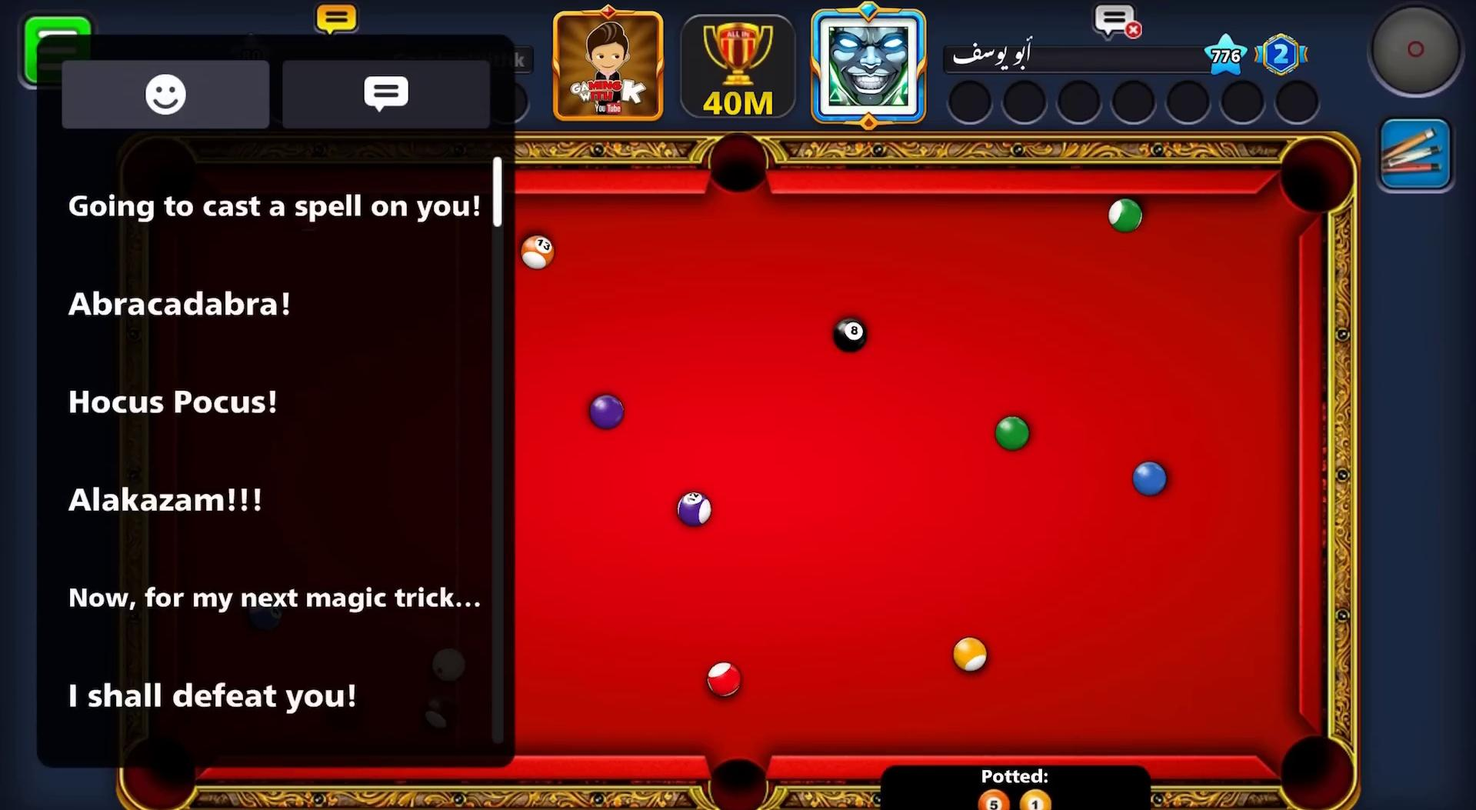Ball: (831, 316, 870, 353), (411, 710, 452, 743), (588, 393, 621, 432), (519, 233, 553, 270), (1110, 195, 1144, 232), (951, 637, 987, 670), (995, 416, 1028, 451), (707, 663, 739, 696), (1134, 462, 1164, 495), (677, 495, 709, 524), (978, 787, 1014, 810), (1022, 784, 1051, 810)
Hole: (121, 729, 202, 810), (1283, 136, 1357, 221), (1280, 733, 1357, 810), (704, 136, 772, 197), (708, 757, 769, 810)
Spin: (1367, 5, 1467, 101)
